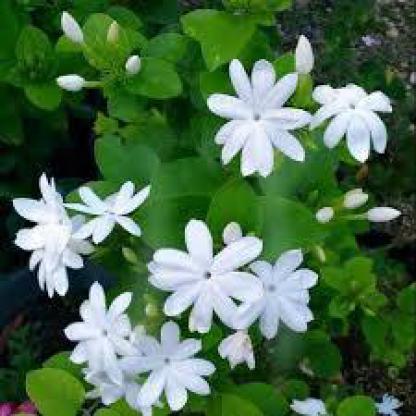Melati: (151, 208, 328, 376), (199, 36, 397, 173), (1, 169, 175, 297), (68, 280, 218, 410), (45, 5, 147, 93), (317, 186, 404, 239)
